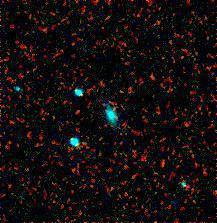star: (165, 181, 195, 211)
